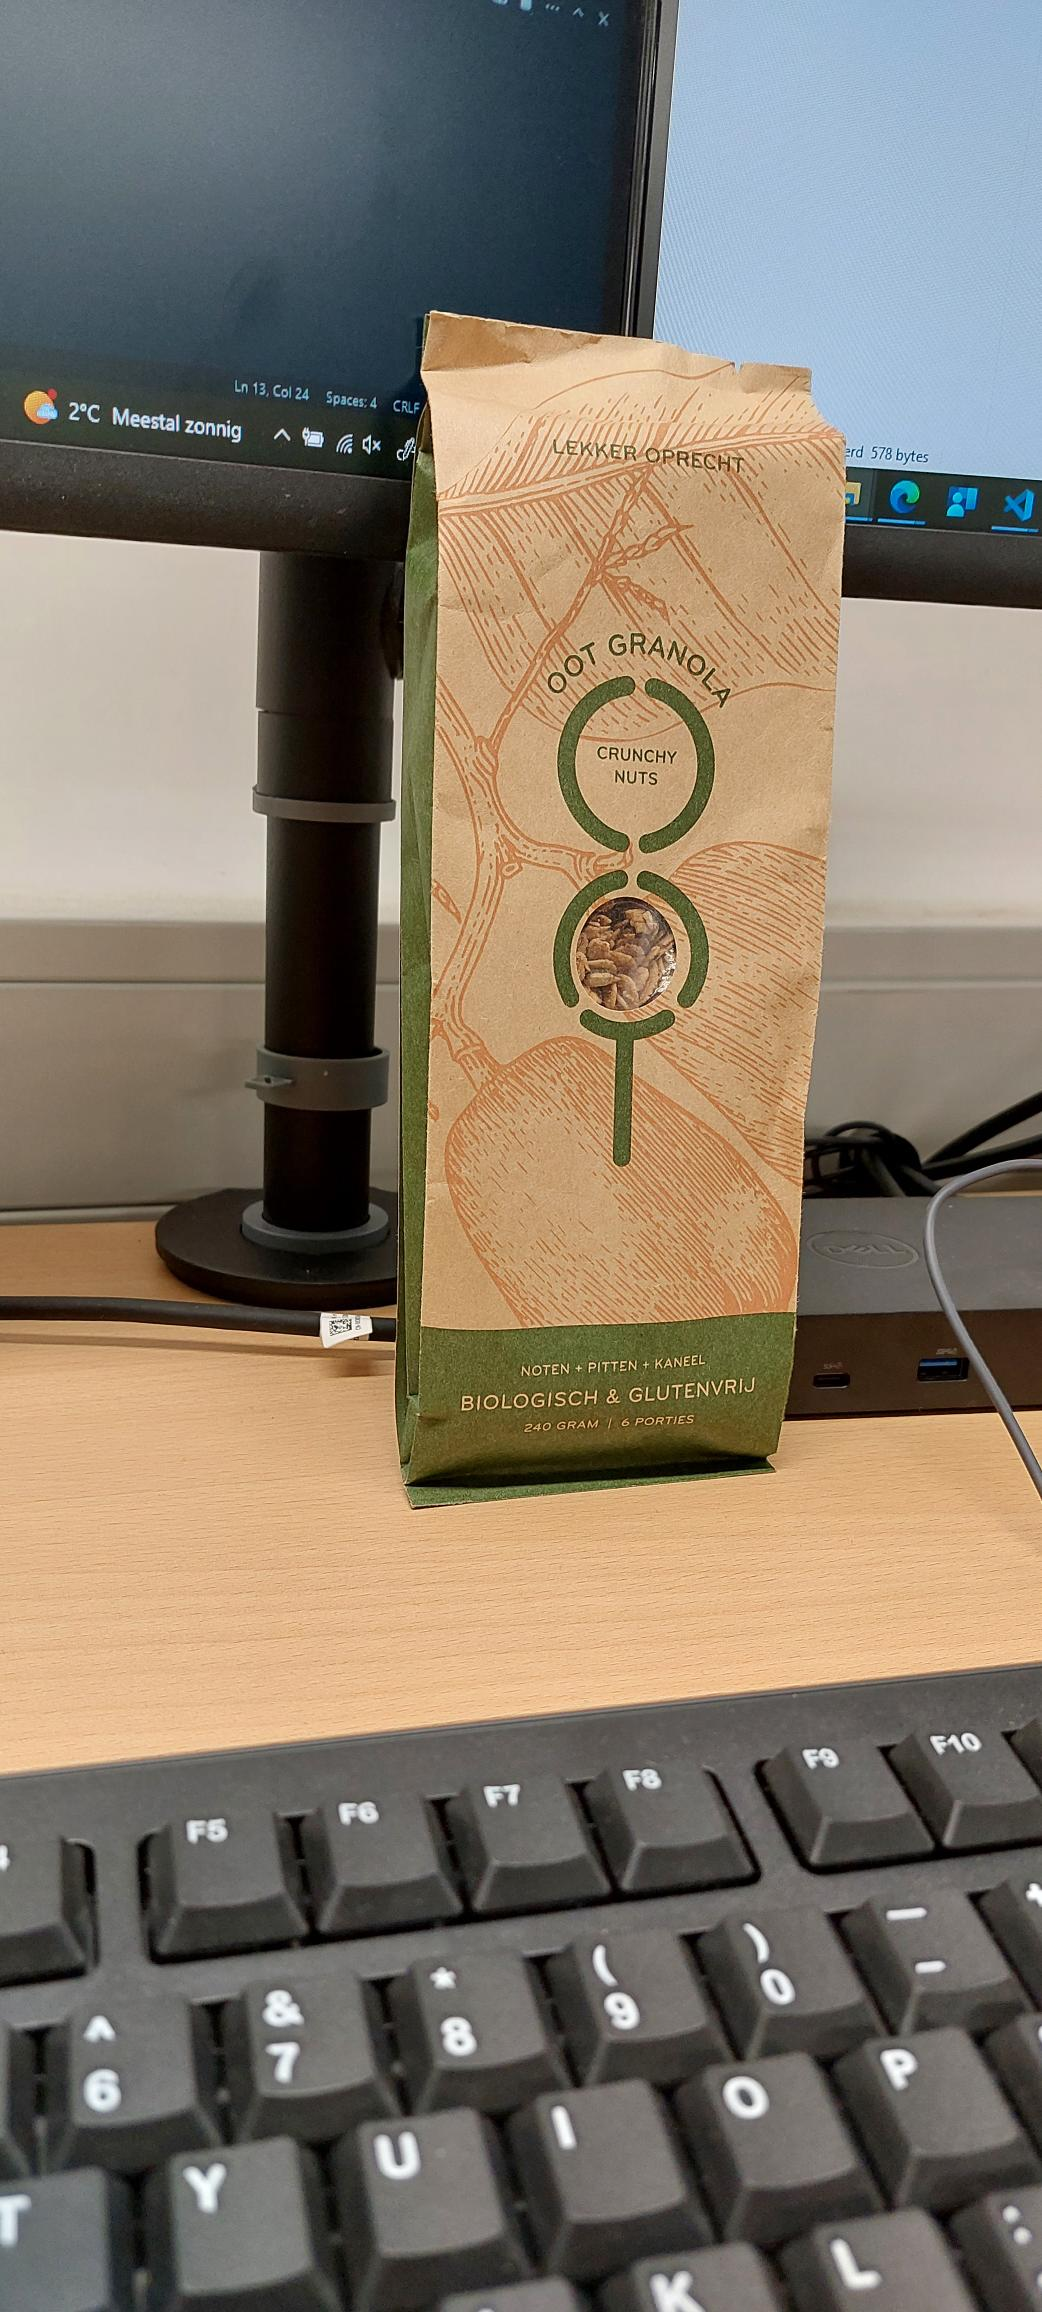CrunchyNuts: (458, 419, 772, 1472)
